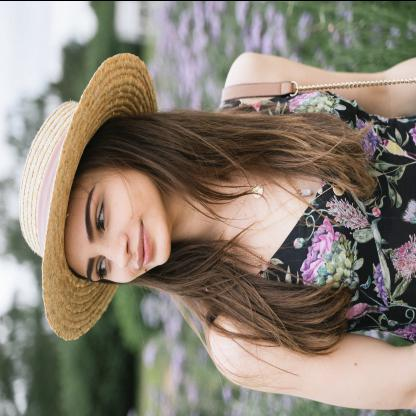Eye: (89, 195, 109, 235), (93, 250, 110, 282)
Mouth: (130, 215, 154, 271)
Nose: (98, 233, 133, 269)
